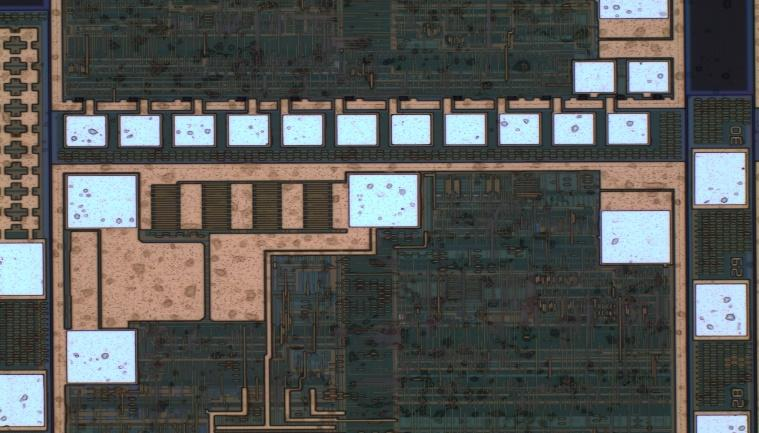PO CONTAMINATION: (48, 1, 699, 433)
